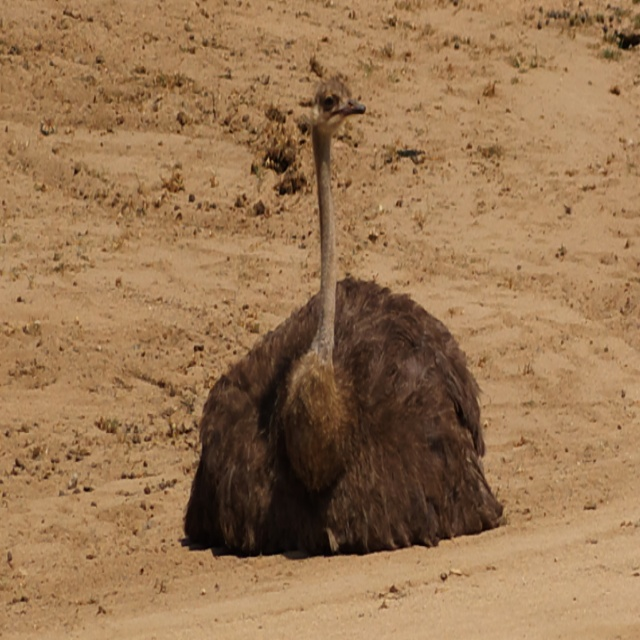Ostrich: (183, 75, 504, 558)
